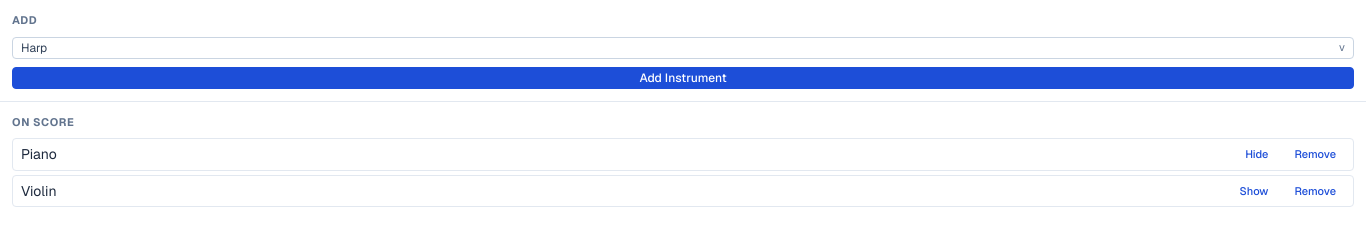
Scenario: InstrumentsPanel › puts the common instruments first, under their own heading
Click the dropdown with test id "select-instrument-add": (34,48) x1=12 y1=36 x2=1354 y2=58
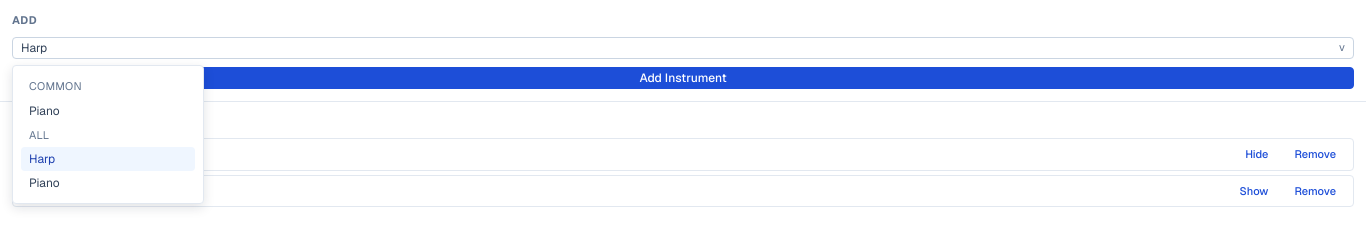
Expected: the text "Piano" below "On Score" is shown, x1=21 y1=145 x2=57 y2=163
Expected: the text "Common" is shown, x1=29 y1=79 x2=82 y2=93
